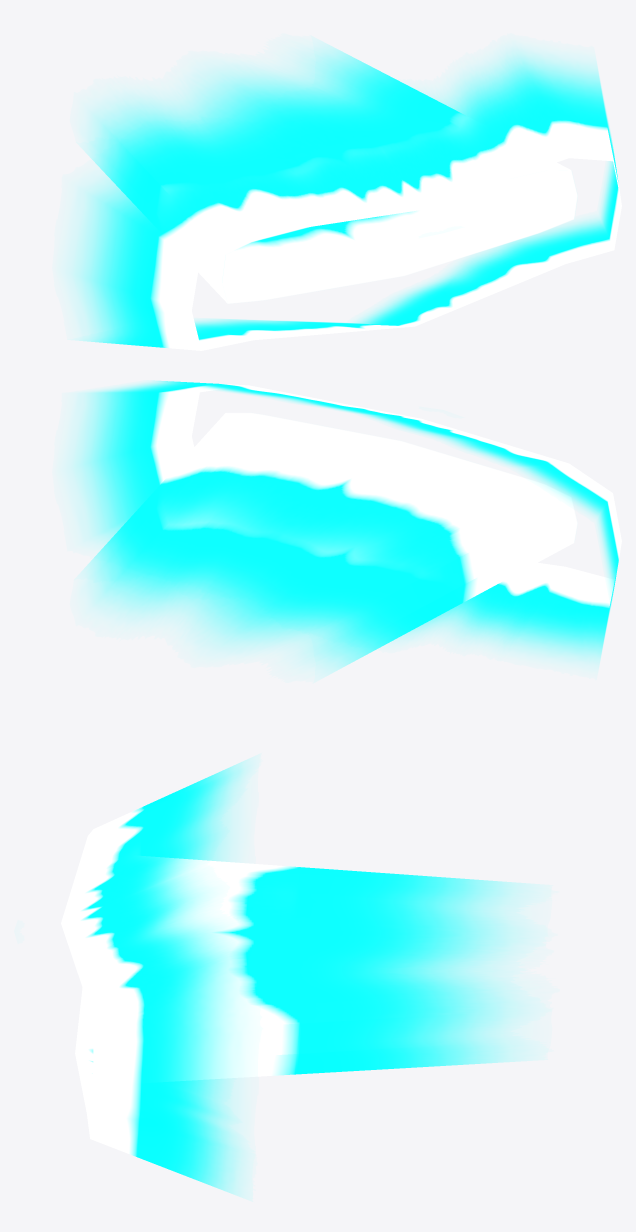
Rendered from Boosters.glb.
3 renders of one model, top to bottom at view 1: azimuth 30°, elevation 25°; view 2: azimuth 150°, elevation 25°; view 3: azimuth 270°, elevation 25°, orthographic. The views are drawn at different scales.
Visible parts, largest first — view 1: spaceship.002, spaceship.003; view 2: spaceship.003, spaceship.002; view 3: spaceship.003, spaceship.002.
Part boxes in pixels (x1,y1,x2,y2): spaceship.002: [73, 51, 621, 350]; spaceship.003: [88, 46, 577, 303]; spaceship.003: [86, 413, 577, 671]; spaceship.002: [73, 381, 621, 661]; spaceship.003: [144, 857, 518, 1080]; spaceship.002: [61, 761, 246, 1194].
Bounding box in the file's own units: 1.63 × 0.6644 × 1.35.
1 material, 1 textured.
